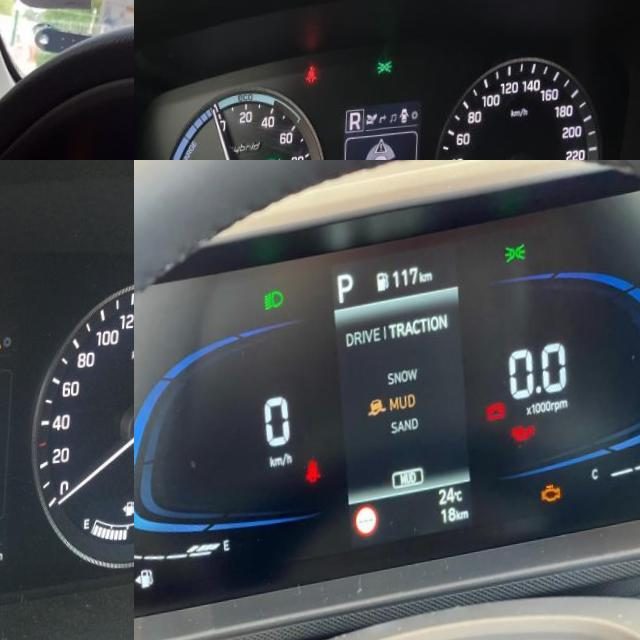Low beam: (264, 291, 285, 312)
SideLamp: (504, 249, 528, 271), (379, 65, 395, 80)
